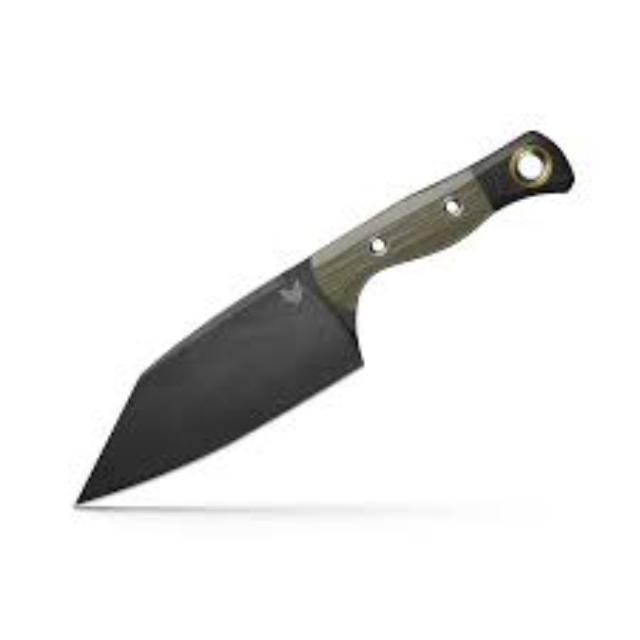Knife: (71, 126, 574, 507)
